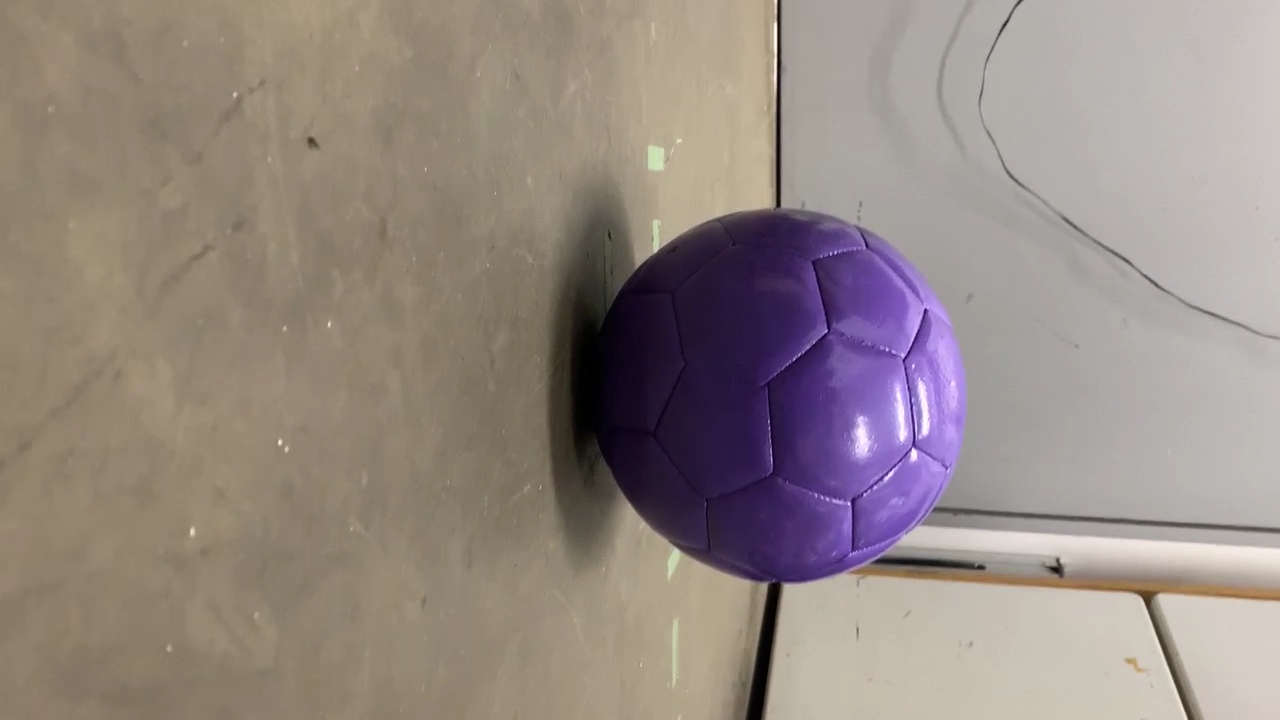purple: (591, 215, 967, 584)
